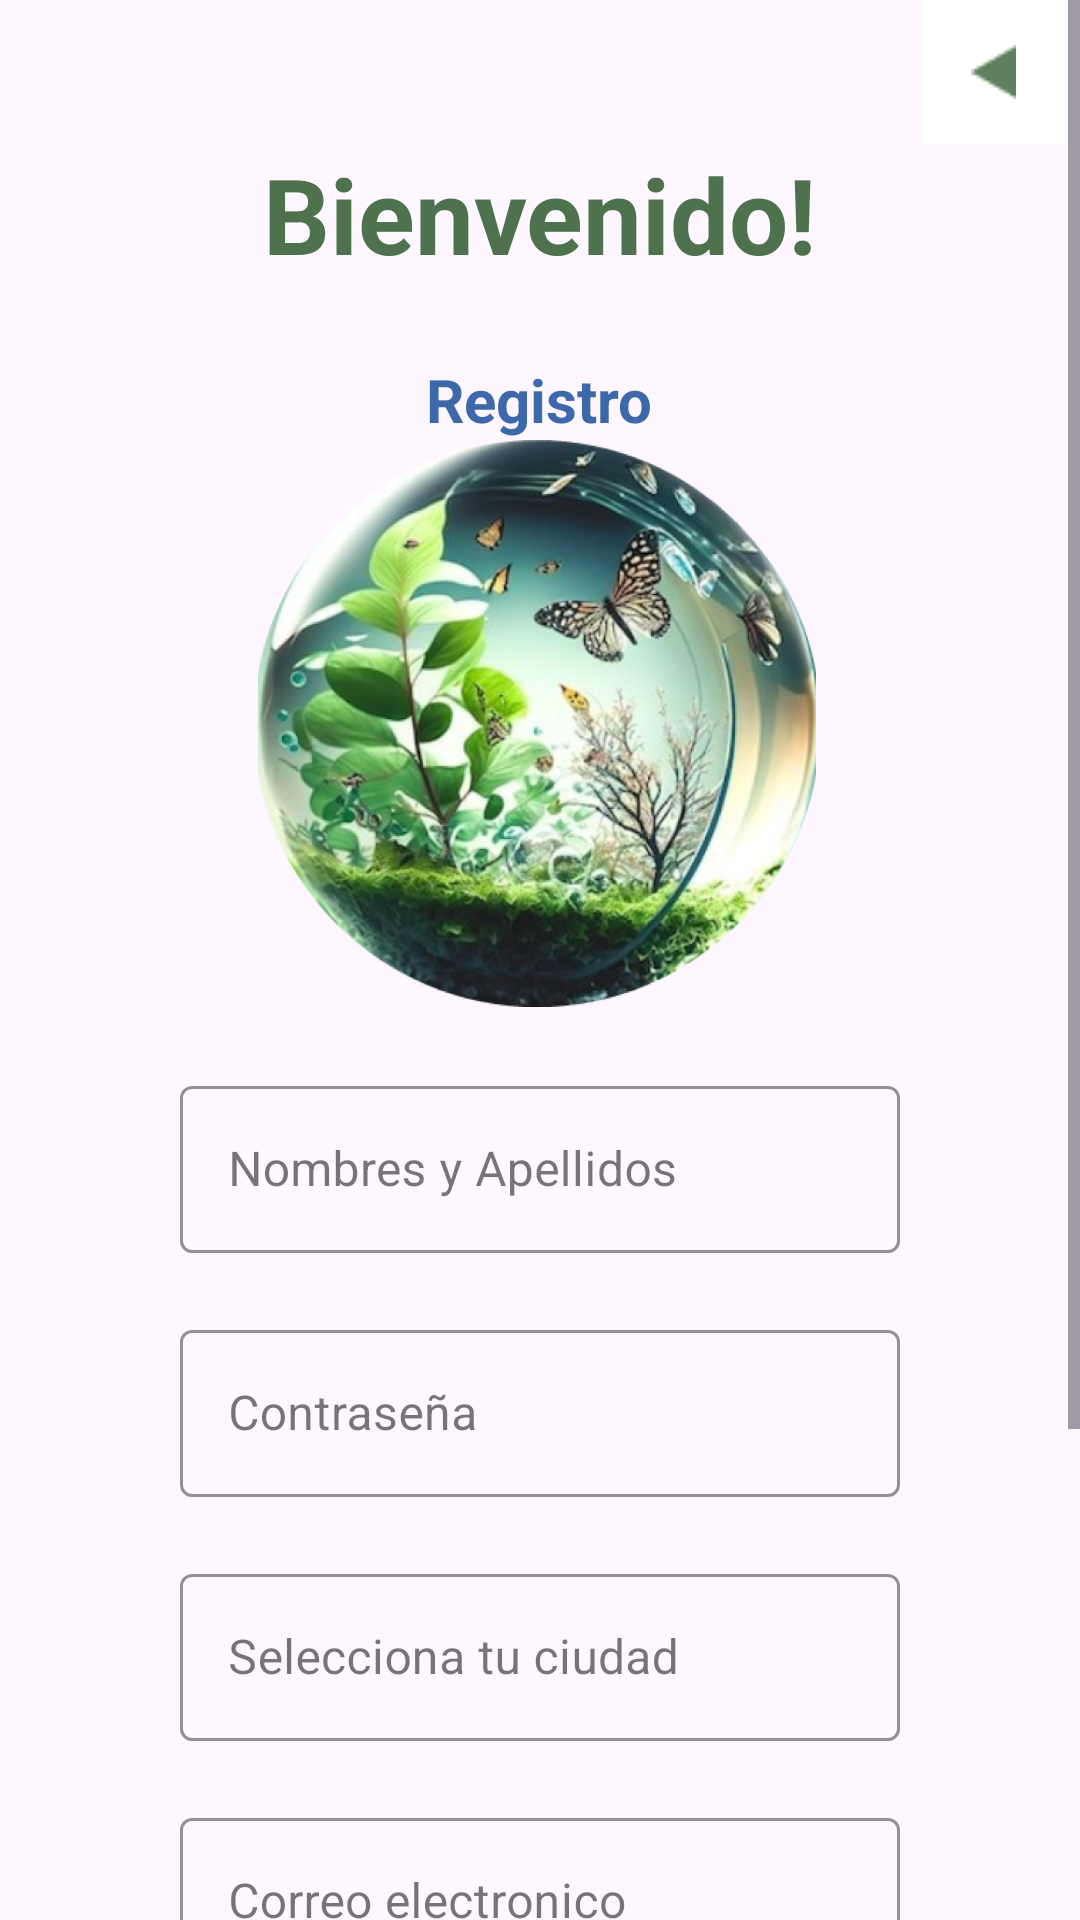

Locate icon controls on the screen. Image size 1080x1920, boxes as [x1,y1,x2,y2].
regresar: [971,45,1016,99]
